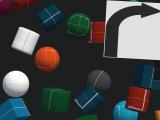Right: (103, 0, 160, 60)
